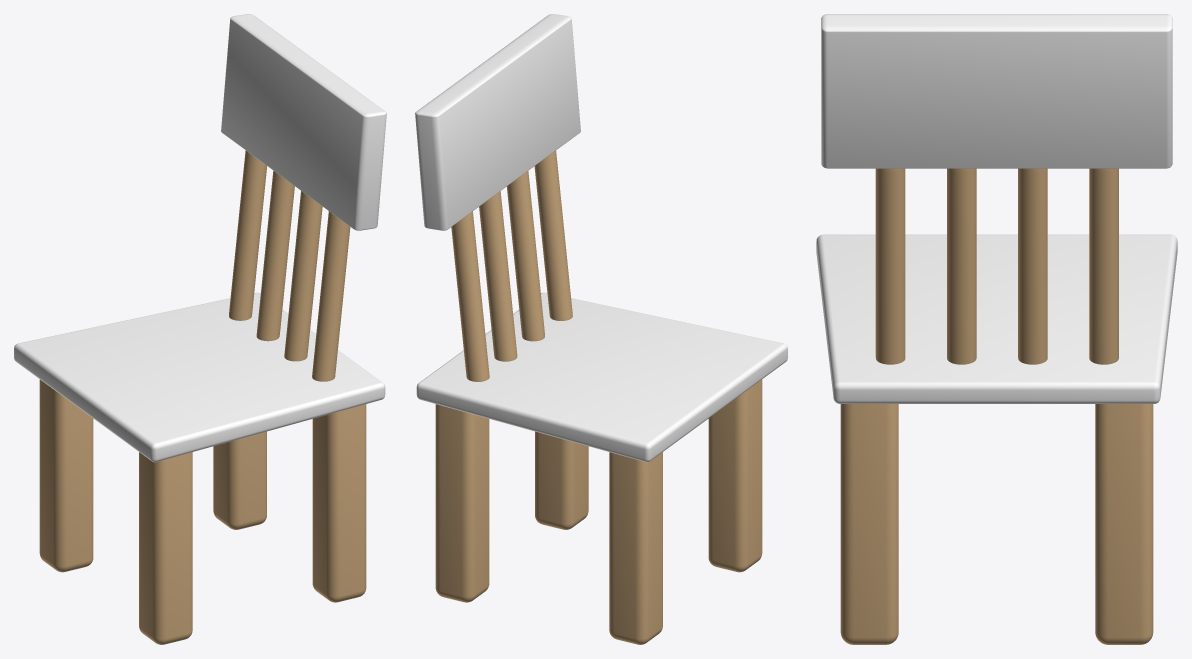
File: simple_chair.glb
The picture shows the model from 3 angles, left to right: view 1: azimuth 30°, elevation 25°; view 2: azimuth 150°, elevation 25°; view 3: azimuth 270°, elevation 25°; orthographic projection. The views are drawn at different scales.
Visible parts, largest first — view 1: simple_chair; view 2: simple_chair; view 3: simple_chair.
Boxes of the visible parts, box(x1,y1,x2,y2) form: simple_chair: box(14, 14, 386, 644); simple_chair: box(415, 14, 787, 644); simple_chair: box(816, 14, 1177, 644).
Size of the model in its own units: 0.5535 by 1.08 by 0.5604.
